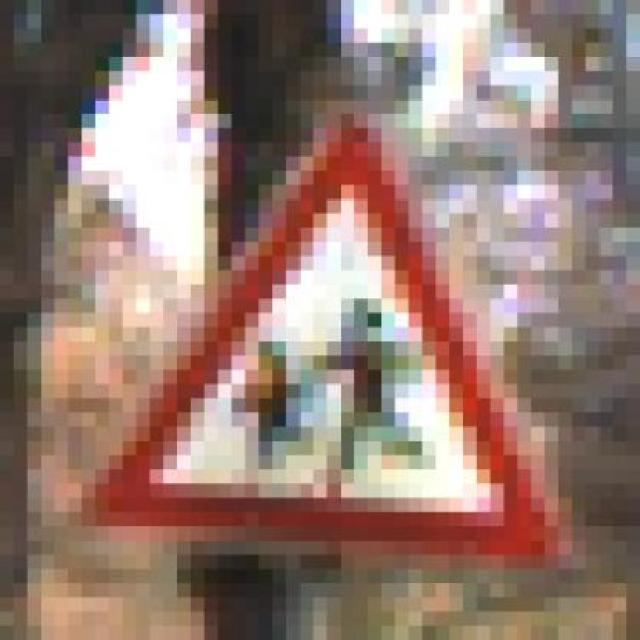Beware of children: (82, 85, 572, 583)
